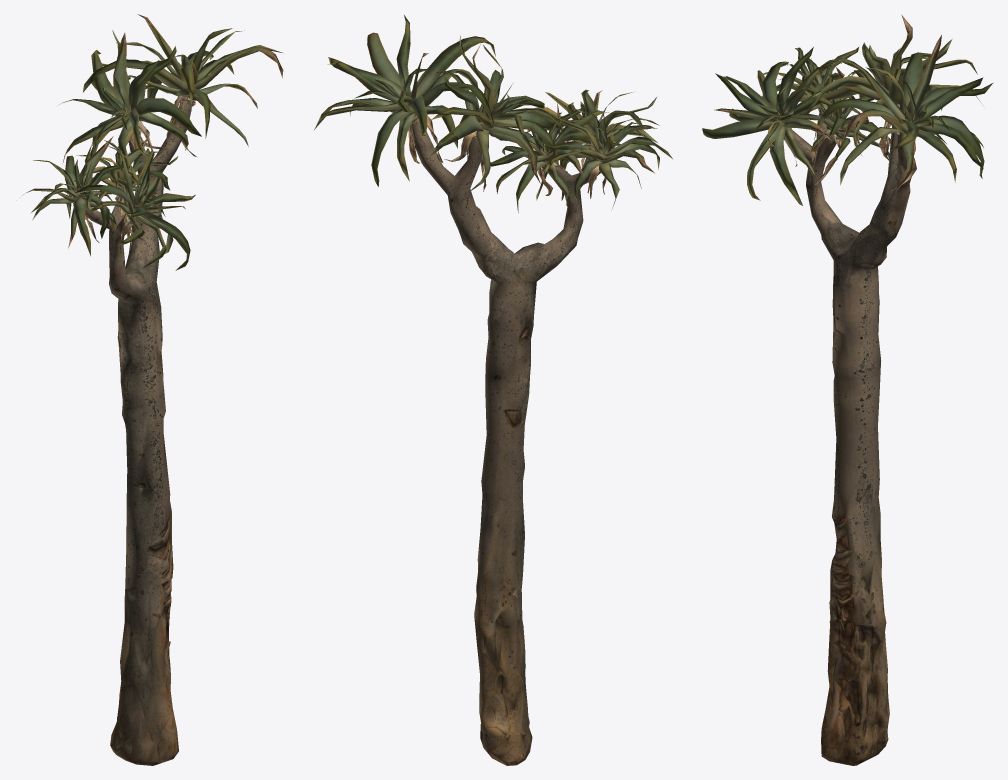
The model's file is quiver_tree_01.glb.
3 views of the same model, side by side, from view 1: azimuth 30°, elevation 25°; view 2: azimuth 150°, elevation 25°; view 3: azimuth 270°, elevation 25° (orthographic). The views are drawn at different scales.
Visible parts, largest first — view 1: quiver_tree_01; view 2: quiver_tree_01; view 3: quiver_tree_01.
Part boxes in pixels (box(x1,y1,x2,y2)): quiver_tree_01: box(16, 14, 283, 765); quiver_tree_01: box(314, 15, 672, 765); quiver_tree_01: box(702, 14, 993, 765).
Bounding box in the file's own units: 1.18 × 2.72 × 0.9615.
Materials: 2 (2 with a texture image).
